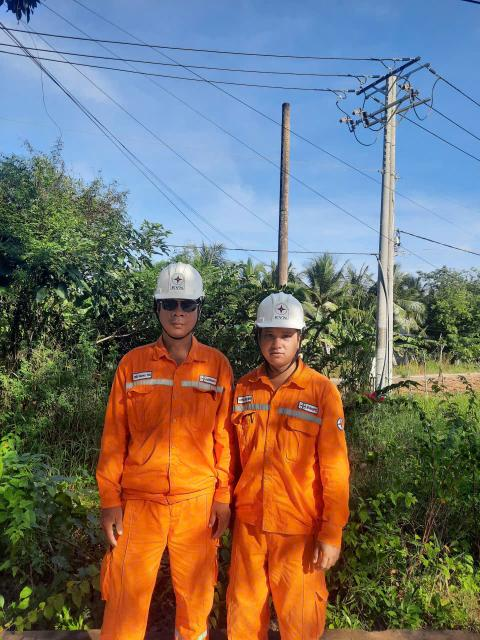helmet: (148, 231, 204, 316), (246, 282, 313, 335)
